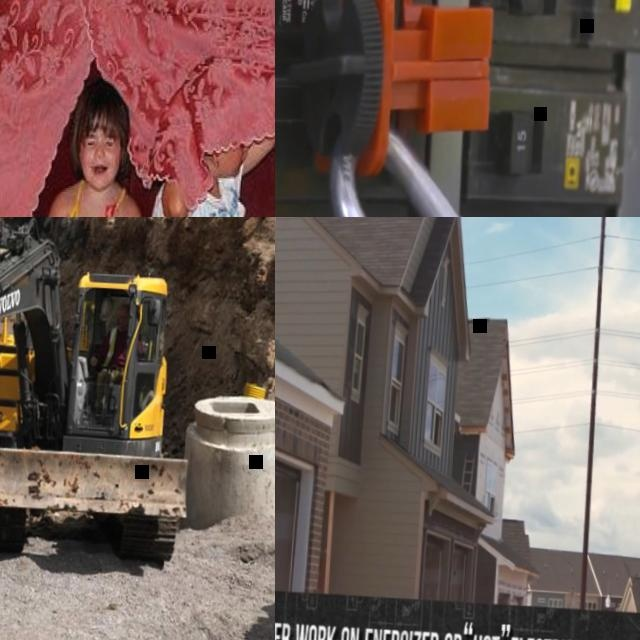NO-Hardhat: (76, 86, 127, 137), (119, 303, 131, 314)
NO-Mask: (82, 157, 117, 190), (221, 149, 246, 181), (120, 319, 130, 330)
NO-Safety Vest: (155, 174, 239, 217), (56, 184, 130, 217)
Person: (0, 75, 173, 217), (138, 117, 272, 217), (502, 152, 640, 217), (88, 302, 147, 418)
Safety Vest: (103, 325, 118, 368)
machinery: (0, 217, 200, 640)
